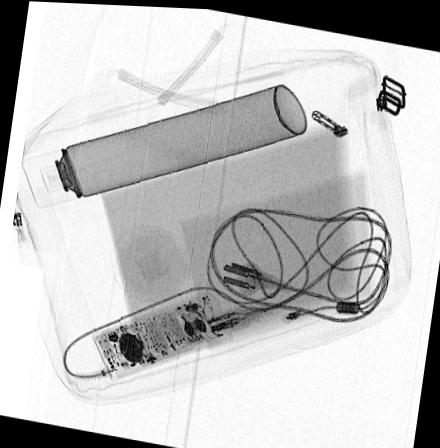Sprayer: (19, 83, 305, 207)
